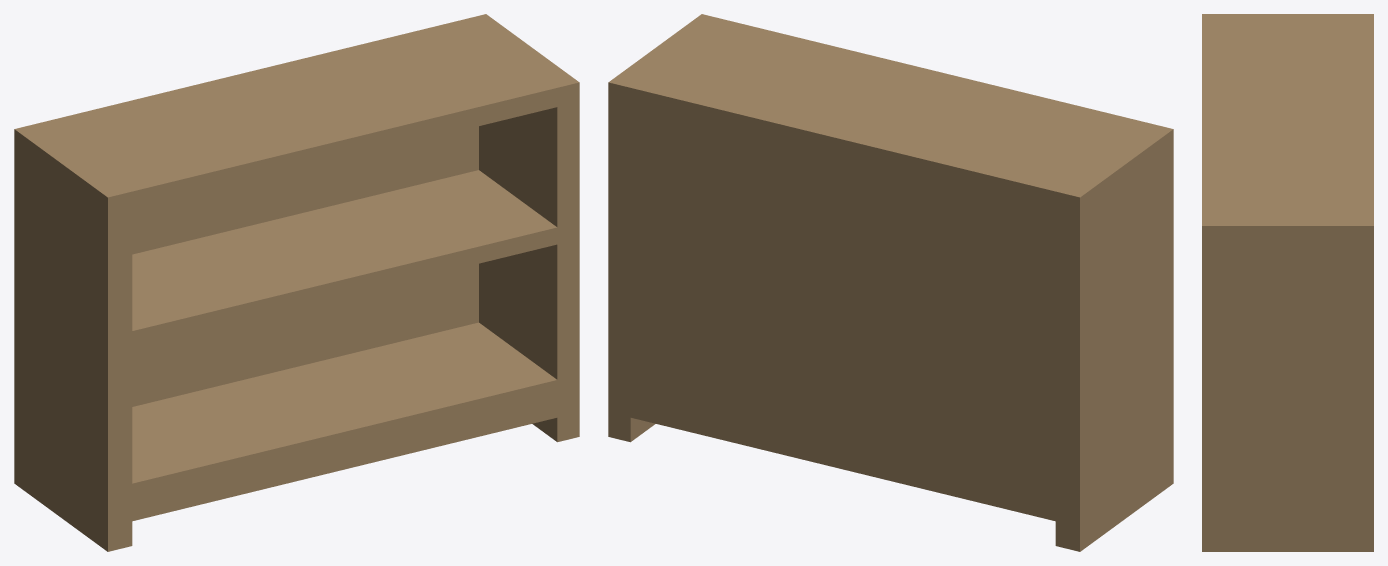
The model's file is small shelf.fbx.
3 renders of one model, left to right at view 1: azimuth 30°, elevation 25°; view 2: azimuth 150°, elevation 25°; view 3: azimuth 270°, elevation 25°, orthographic. The views are drawn at different scales.
Visible parts, largest first — view 1: pCube1; view 2: pCube1; view 3: pCube1.
Boxes of the visible parts, x1,y1,x2,y2 form: pCube1: (14,14,579,551); pCube1: (608,14,1173,551); pCube1: (1202,14,1373,551).
Size of the model in its own units: 2.78 by 2 by 0.9554.
